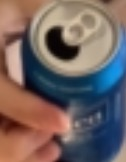tonica: (25, 1, 126, 162)
